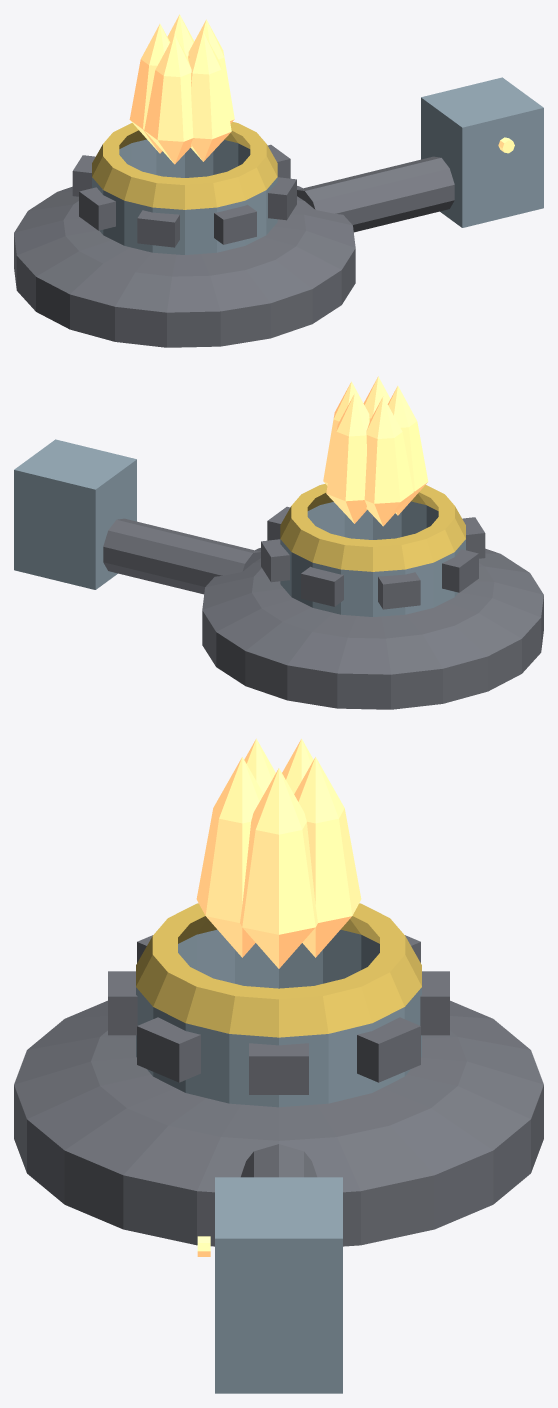
The model's file is animated-mechanisms-kit-flame-vent-fe8c3551__24655.glb.
3 views of the same model, one above another, from view 1: azimuth 30°, elevation 25°; view 2: azimuth 150°, elevation 25°; view 3: azimuth 270°, elevation 25° (orthographic). The views are drawn at different scales.
Visible parts, largest first — view 1: flame-vent, flame; view 2: flame-vent, flame; view 3: flame-vent, flame.
Part boxes in pixels (left/top/right/bottom): flame-vent: left=14, top=77, right=543, bottom=347; flame: left=129, top=14, right=234, bottom=164; flame-vent: left=14, top=439, right=543, bottom=709; flame: left=323, top=376, right=428, bottom=526; flame-vent: left=14, top=903, right=543, bottom=1393; flame: left=196, top=738, right=361, bottom=968.
Size of the model in its own units: 2.03 by 1 by 1.24.
